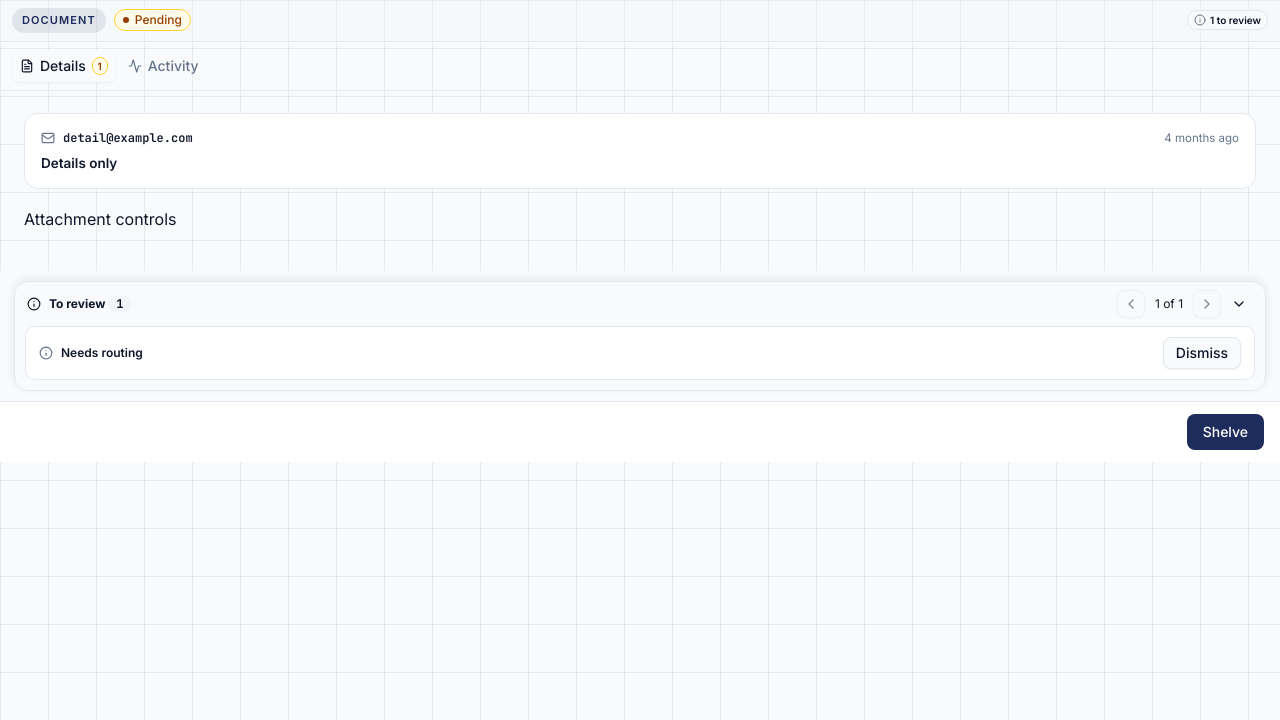
Test: DocumentPanelRenderer › adds the shared Details and Activity tabs with a numeric issue badge for routed scroll panels
Expected: the tab "Details 1" is shown, [12,50,116,82]
Expected: the text named "1 details issue" reads "1", [98,60,102,72]
Click the tab "Activity". click: x=163, y=66
box: [120,50,207,82]
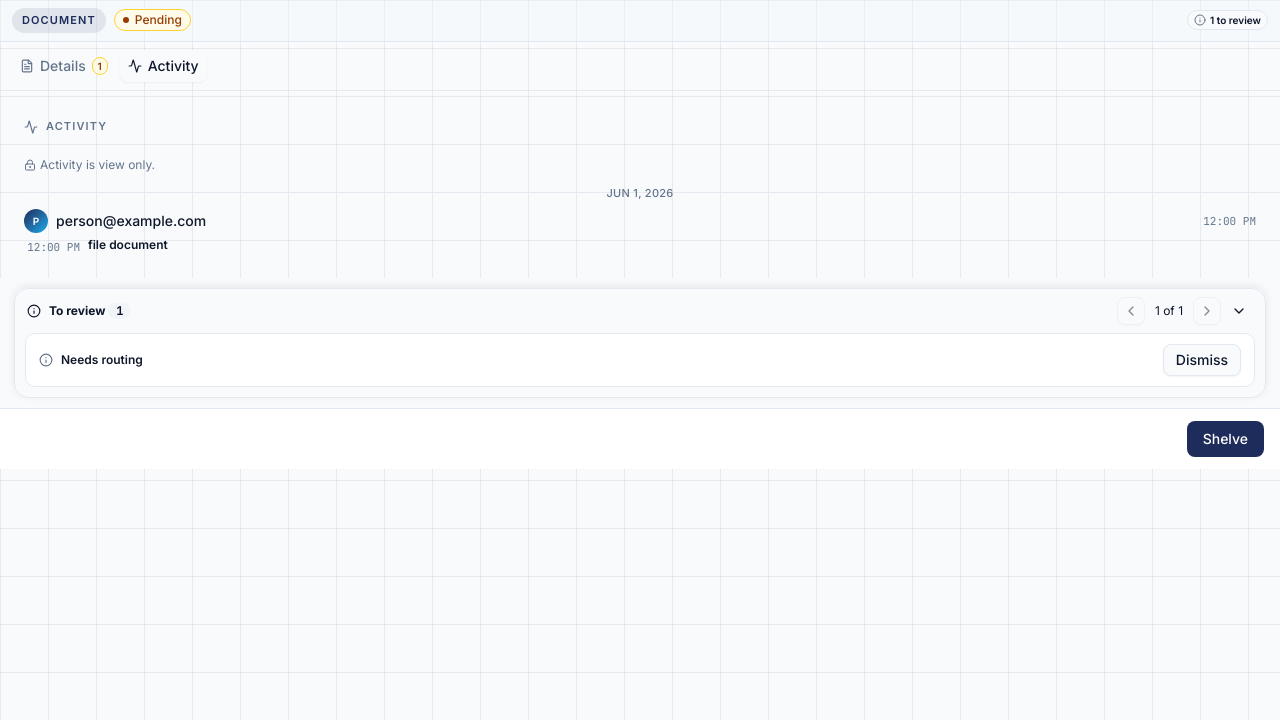
Now the text "file document" is shown, box [88,237,168,252]
Now the text "person@example.com" is shown, box [56,211,206,231]
Now the button "detail@example.com" is gone
